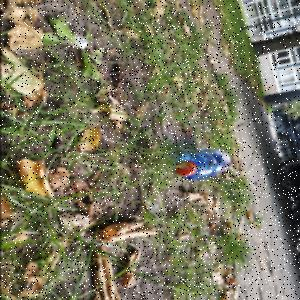Plastic-bottle: (174, 149, 233, 183)
